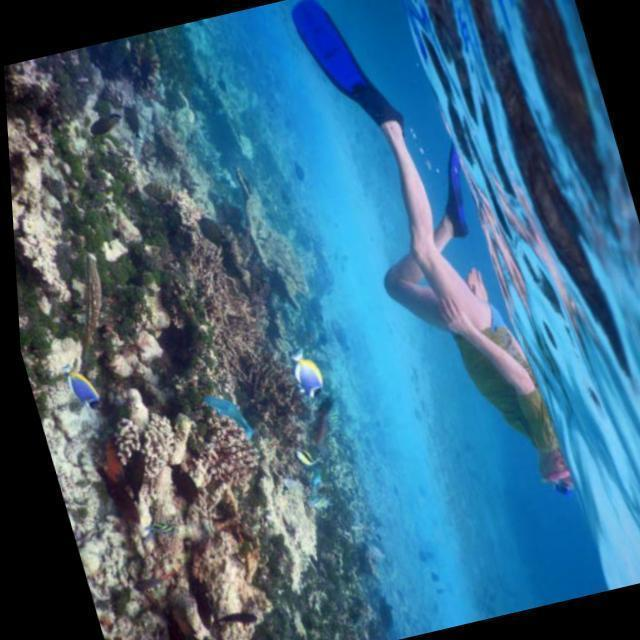Dead Coral: (172, 207, 305, 460)
